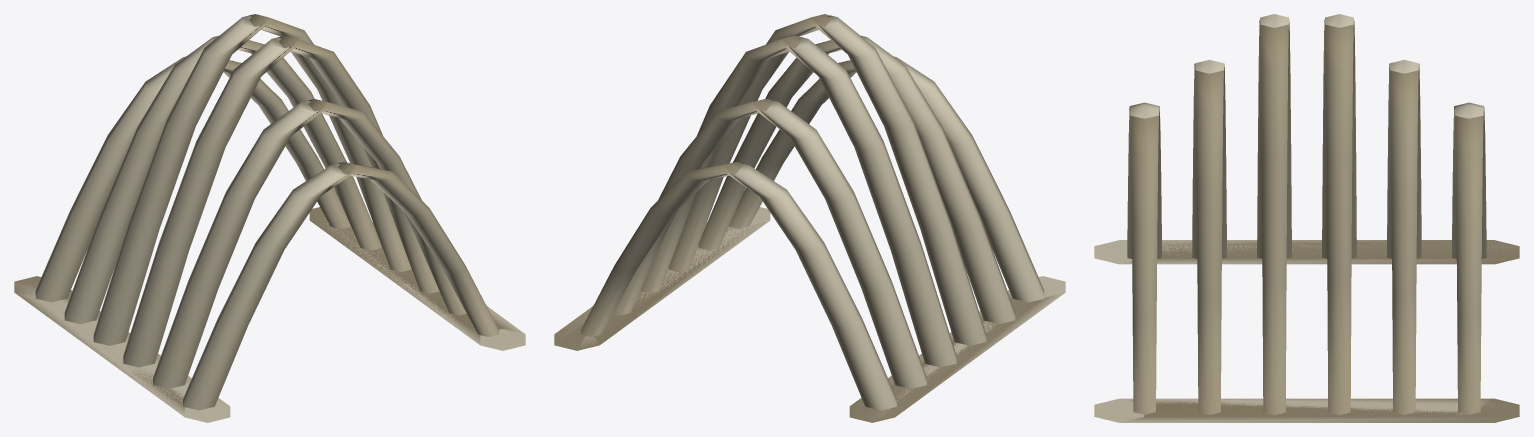
Rendered from world_landmark_ribs_a.fbx.
3 views of the same model, side by side, from view 1: azimuth 30°, elevation 25°; view 2: azimuth 150°, elevation 25°; view 3: azimuth 270°, elevation 25° (orthographic). The views are drawn at different scales.
Parts seen in each view (by area): view 1: world_landmark_ribs_a; view 2: world_landmark_ribs_a; view 3: world_landmark_ribs_a.
Part boxes in pixels (x1,y1,x2,y2): world_landmark_ribs_a: [14, 14, 525, 422]; world_landmark_ribs_a: [554, 14, 1065, 422]; world_landmark_ribs_a: [1094, 14, 1519, 422].
Bounding box in the file's own units: 600 × 485 × 589.
